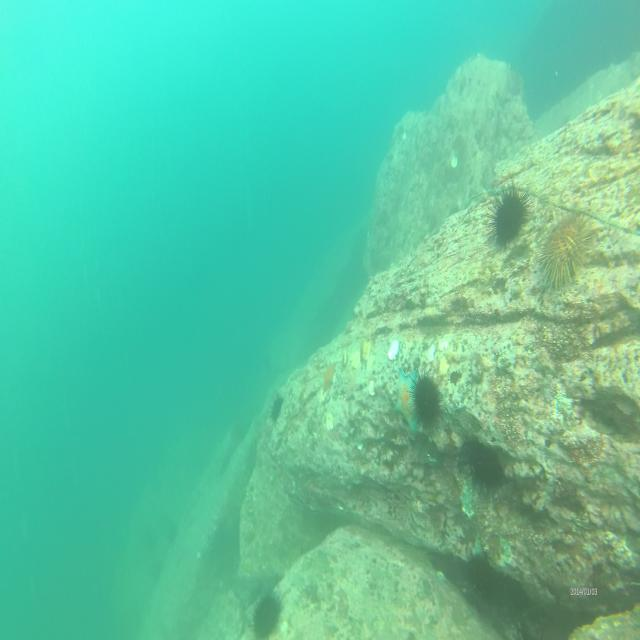echinus: (540, 208, 590, 284), (486, 177, 531, 251), (464, 434, 504, 497), (409, 371, 442, 428), (248, 591, 280, 640), (269, 391, 284, 424)
starfish: (393, 366, 426, 438)
